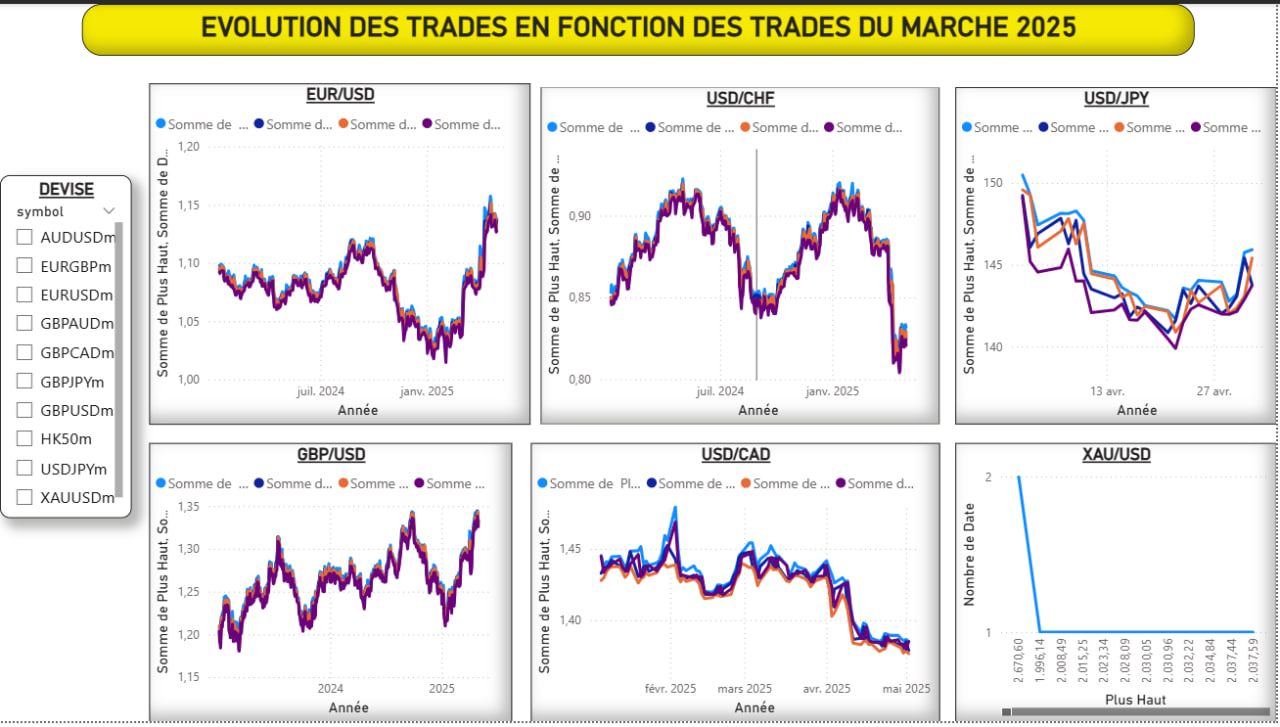

Layout of this report page (visuals, bound fields, positions):
{"tool":"powerbi","page":{"name":"EVOLUTION DES TRADES","canvas":[1280,720],"ordinal":1},"visuals":[{"type":"lineChart","title":"EUR/USD","fields":{"Y":["Sum(EUR_USD - Données Historiques. Plus Haut)","Sum(EUR_USD - Données Historiques.Dernier)","Sum(EUR_USD - Données Historiques.Ouv.)","Sum(EUR_USD - Données Historiques.Plus Bas)"],"Category":["EUR_USD - Données Historiques.Date.Variation.Hiérarchie de dates.Année","EUR_USD - Données Historiques.Date.Variation.Hiérarchie de dates.Trimestre","EUR_USD - Données Historiques.Date.Variation.Hiérarchie de dates.Mois","EUR_USD - Données Historiques.Date.Variation.Hiérarchie de dates.Jour"]},"box":[150,80,382,342],"z":0},{"type":"lineChart","title":"GBP/USD","fields":{"Y":["Sum(GBP_USD - Données Historiques. Plus Haut)","Sum(GBP_USD - Données Historiques.Dernier)","Sum(GBP_USD - Données Historiques.Ouv.)","Sum(GBP_USD - Données Historiques.Plus Bas)"],"Category":["GBP_USD - Données Historiques.Date.Variation.Hiérarchie de dates.Année","GBP_USD - Données Historiques.Date.Variation.Hiérarchie de dates.Trimestre","GBP_USD - Données Historiques.Date.Variation.Hiérarchie de dates.Mois","GBP_USD - Données Historiques.Date.Variation.Hiérarchie de dates.Jour"]},"box":[150,440,364,280],"z":1000},{"type":"lineChart","title":"USD/CAD","fields":{"Y":["Sum(USD_CAD - Données Historiques. Plus Haut)","Sum(USD_CAD - Données Historiques.Dernier)","Sum(USD_CAD - Données Historiques.Plus Bas)","Sum(USD_CAD - Données Historiques.Ouv.)"],"Category":["USD_CAD - Données Historiques.Date.Variation.Hiérarchie de dates.Année","USD_CAD - Données Historiques.Date.Variation.Hiérarchie de dates.Trimestre","USD_CAD - Données Historiques.Date.Variation.Hiérarchie de dates.Mois","USD_CAD - Données Historiques.Date.Variation.Hiérarchie de dates.Jour"]},"box":[532,440,410,280],"z":2000},{"type":"lineChart","title":"USD/CHF","fields":{"Y":["Sum(USD_CHF - Données Historiques. Plus Haut)","Sum(USD_CHF - Données Historiques.Dernier)","Sum(USD_CHF - Données Historiques.Ouv.)","Sum(USD_CHF - Données Historiques.Plus Bas)"],"Category":["USD_CHF - Données Historiques.Date.Variation.Hiérarchie de dates.Année","USD_CHF - Données Historiques.Date.Variation.Hiérarchie de dates.Trimestre","USD_CHF - Données Historiques.Date.Variation.Hiérarchie de dates.Mois","USD_CHF - Données Historiques.Date.Variation.Hiérarchie de dates.Jour"]},"box":[542,84,400,338],"z":3000},{"type":"lineChart","title":"USD/JPY","fields":{"Y":["Sum(USD_JPY - Données Historiques (1). Plus Haut)","Sum(USD_JPY - Données Historiques (1).Dernier)","Sum(USD_JPY - Données Historiques (1).Ouv.)","Sum(USD_JPY - Données Historiques (1).Plus Bas)"],"Category":["USD_JPY - Données Historiques (1).Date.Variation.Hiérarchie de dates.Année","USD_JPY - Données Historiques (1).Date.Variation.Hiérarchie de dates.Trimestre","USD_JPY - Données Historiques (1).Date.Variation.Hiérarchie de dates.Mois","USD_JPY - Données Historiques (1).Date.Variation.Hiérarchie de dates.Jour"]},"box":[958,84,322,338],"z":4000},{"type":"lineChart","title":"XAU/USD","fields":{"Category":["XAU_USD - Données Historiques. Plus Haut"],"Y":["CountNonNull(XAU_USD - Données Historiques.Date)"]},"box":[958,440,322,280],"z":5000},{"type":"slicer","title":"DEVISE","fields":{"Values":["r1.symbol"]},"box":[0,172,132,344],"z":6000},{"type":"textbox","title":"EVOLUTION DES TRADES EN FONCTION DES TRADES DU MARCHE 2025","box":[82,0,1116,52],"z":7000}]}

Visuals, with their boxes in screenshot pixels (x1, y1, x2, y2), scaled from the page's 1280x720 canvas onto the 1280x727 screenshot:
"EUR/USD" lineChart: region(150, 81, 532, 426)
"GBP/USD" lineChart: region(150, 444, 514, 726)
"USD/CAD" lineChart: region(532, 444, 942, 726)
"USD/CHF" lineChart: region(542, 85, 942, 426)
"USD/JPY" lineChart: region(958, 85, 1279, 426)
"XAU/USD" lineChart: region(958, 444, 1279, 726)
"DEVISE" slicer: region(0, 174, 132, 521)
"EVOLUTION DES TRADES EN FONCTION DES TRADES DU MARCHE 2025" textbox: region(82, 0, 1198, 53)
